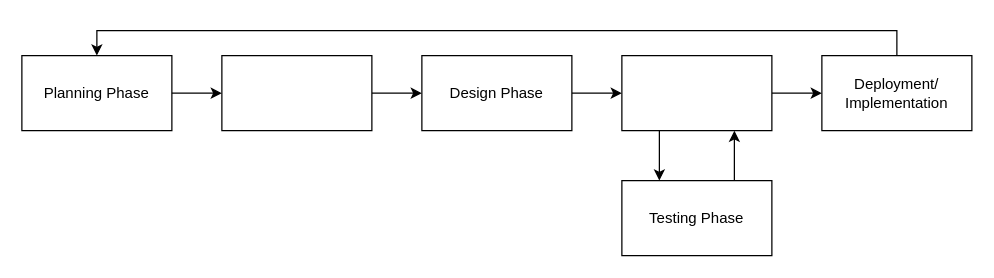
Some shapes in this 994 by 278 pixel diagram are drawn without their labels. Here are the shapes that lost their labels. From the top down, the box of each, then its label:
(221, 54, 372, 131): Analysis Phase
(621, 54, 772, 131): Development Phase
